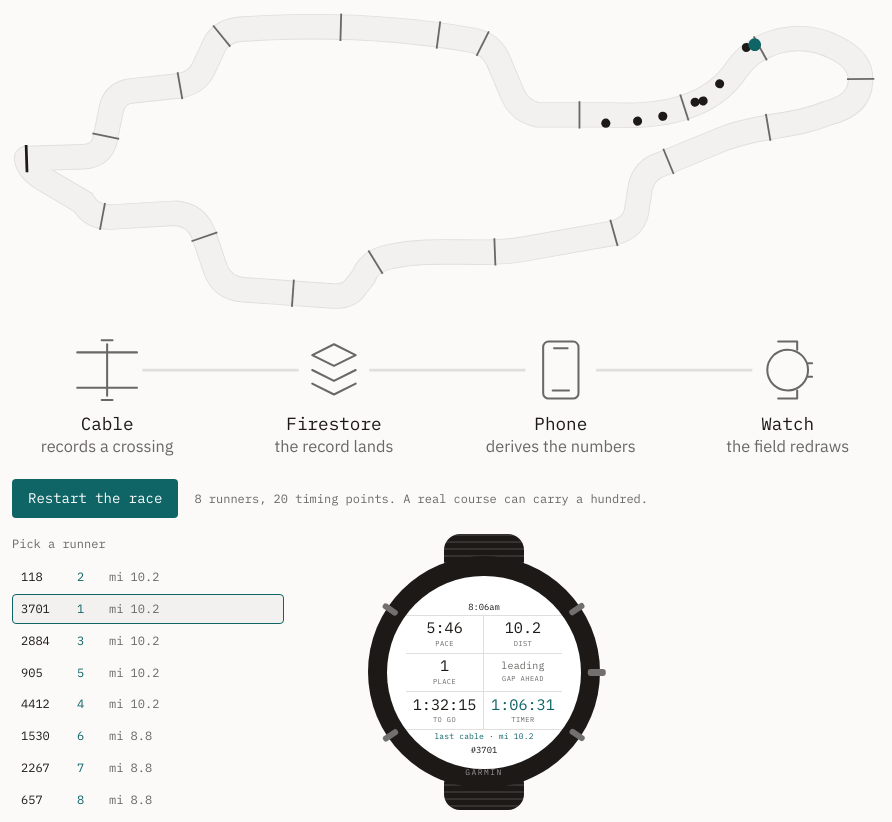
Test: picking a runner › shows the chosen runner on the watch, and switches
The image size is (892, 822).
Expected: the text "#3701" is shown, [471,743,497,758]
Click the button "657 8 mi 8.8": (148, 800) [12,785,284,815]
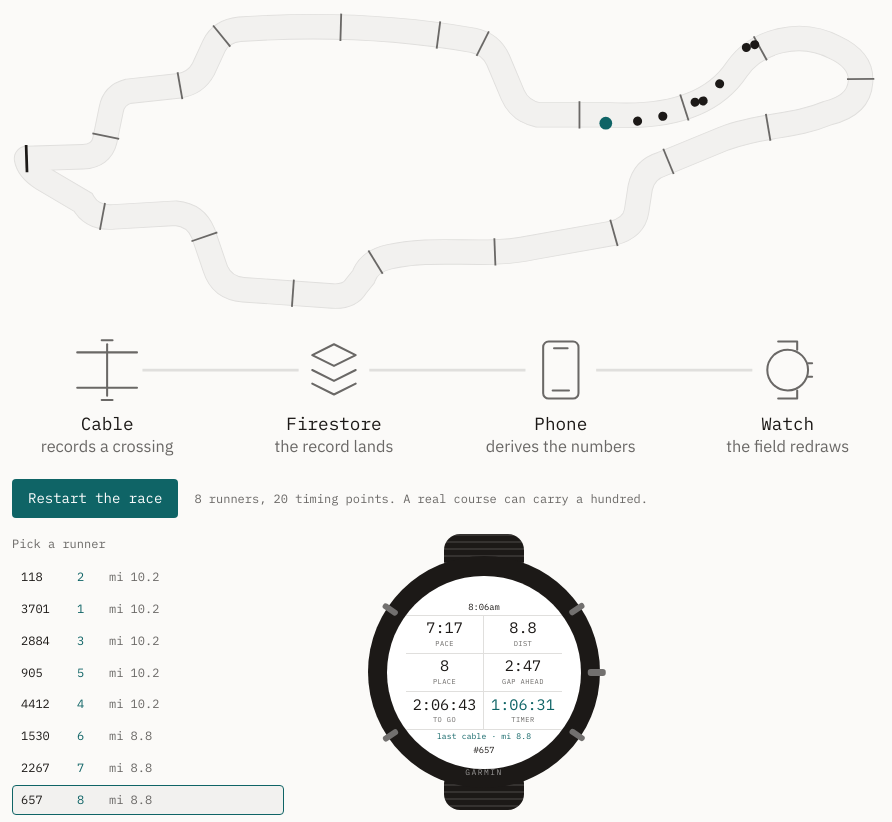
Expected: the text "#657" is shown, [473,743,494,758]
